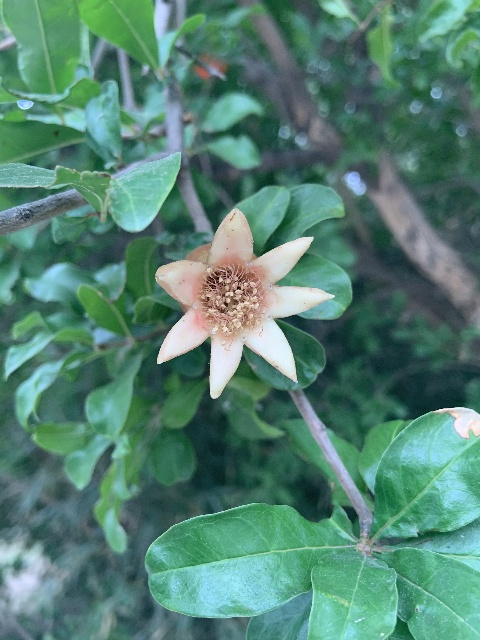early-fruit: (153, 208, 334, 398)
